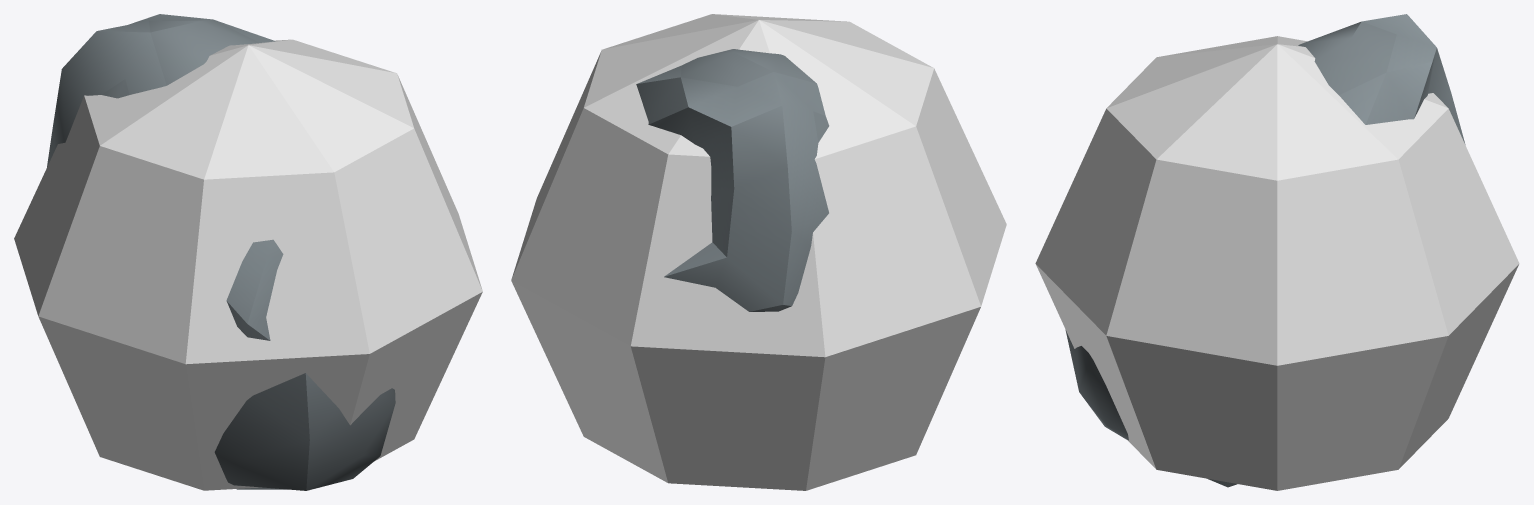
The model's file is stone_2.glb.
3 renders of one model, left to right at view 1: azimuth 30°, elevation 25°; view 2: azimuth 150°, elevation 25°; view 3: azimuth 270°, elevation 25°, orthographic. The views are drawn at different scales.
Visible parts, largest first — view 1: COL_SPHERE_00.003, Rock_3_N_Color1; view 2: COL_SPHERE_00.003, Rock_3_N_Color1; view 3: COL_SPHERE_00.003, Rock_3_N_Color1.
Boxes of the visible parts, x1,y1,x2,y2 form: COL_SPHERE_00.003: [14, 39, 482, 490]; Rock_3_N_Color1: [47, 14, 395, 490]; COL_SPHERE_00.003: [511, 14, 1006, 490]; Rock_3_N_Color1: [636, 49, 829, 311]; COL_SPHERE_00.003: [1035, 36, 1519, 490]; Rock_3_N_Color1: [1065, 14, 1465, 487].
Bounding box in the file's own units: 3.87 × 3.87 × 3.87.
Materials: 1 (1 with a texture image).
